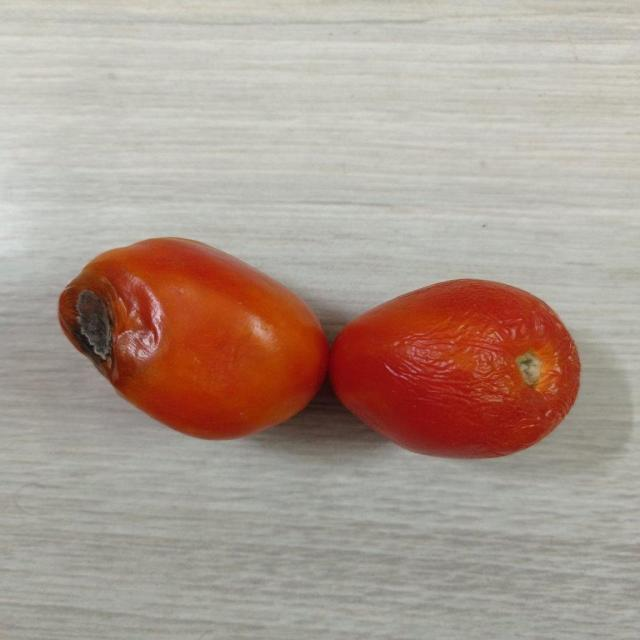Rotten: (52, 235, 328, 441)
overripe: (334, 279, 584, 456)
